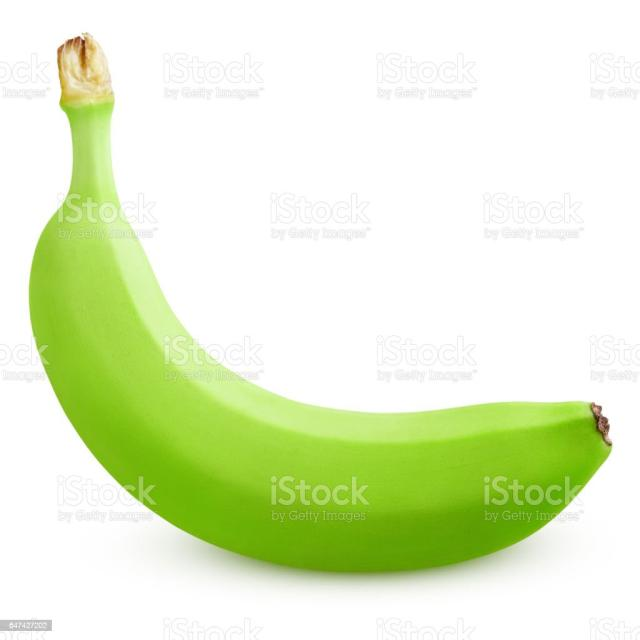non_orange: (23, 29, 616, 582)
